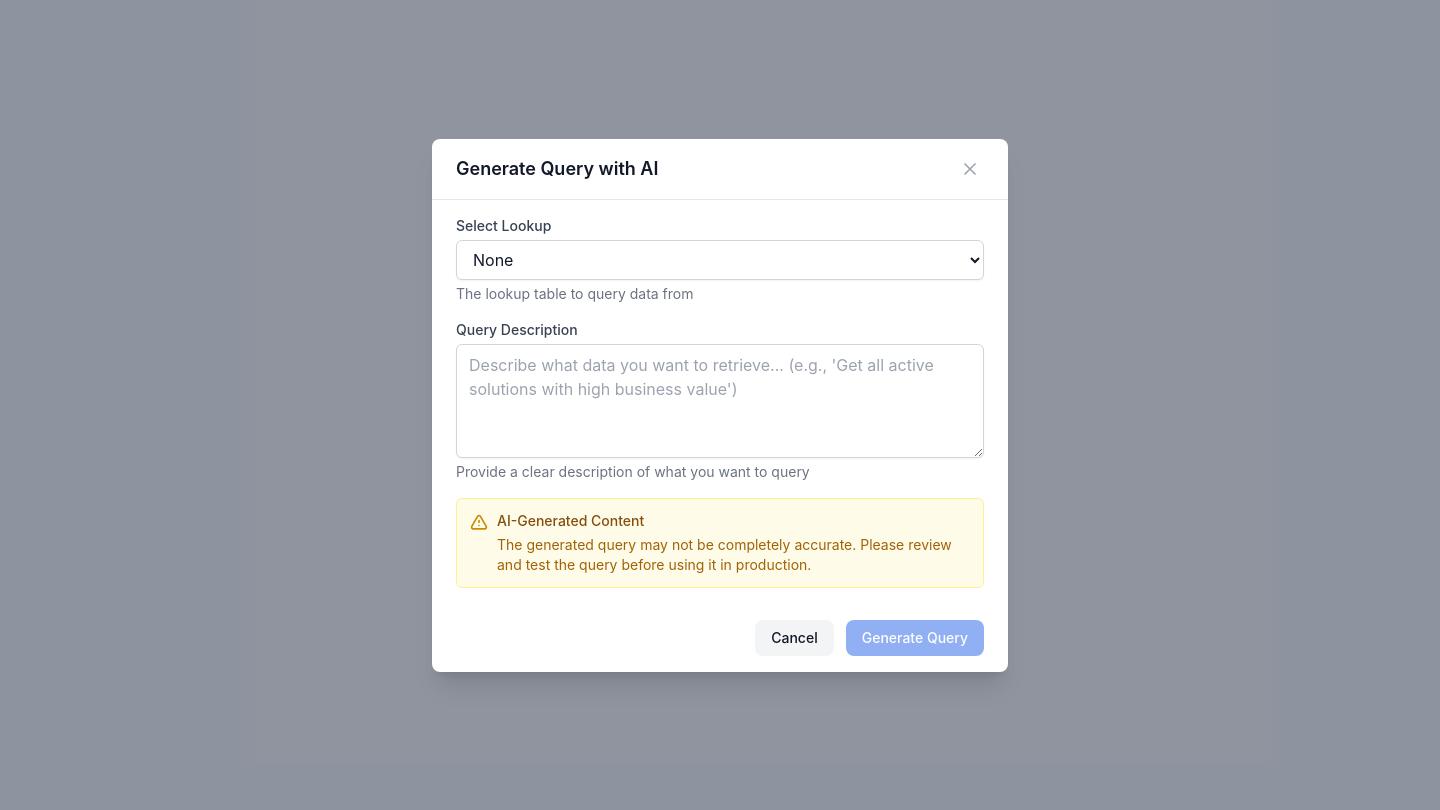
GenerateQueryModal › Button States › enables generate button with valid inputs
This screenshot has width=1440, height=810.
Select "techCompEOL" in the dropdown labelled "Select Lookup". click: (720, 260)
box: [456, 240, 984, 280]
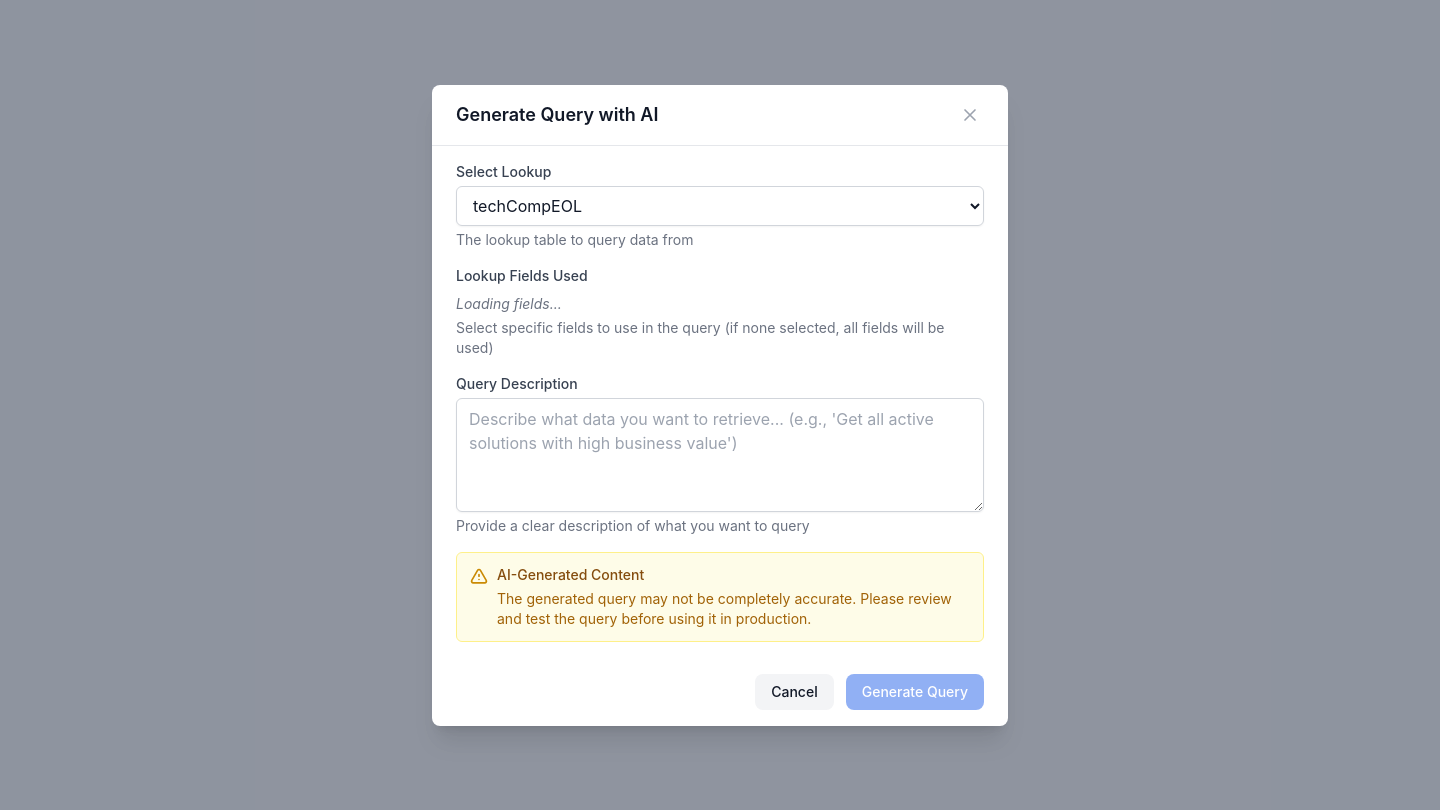
Replace the text in the text box labelled "Query Description" with "Test". click: (720, 454)
box: [456, 398, 984, 512]
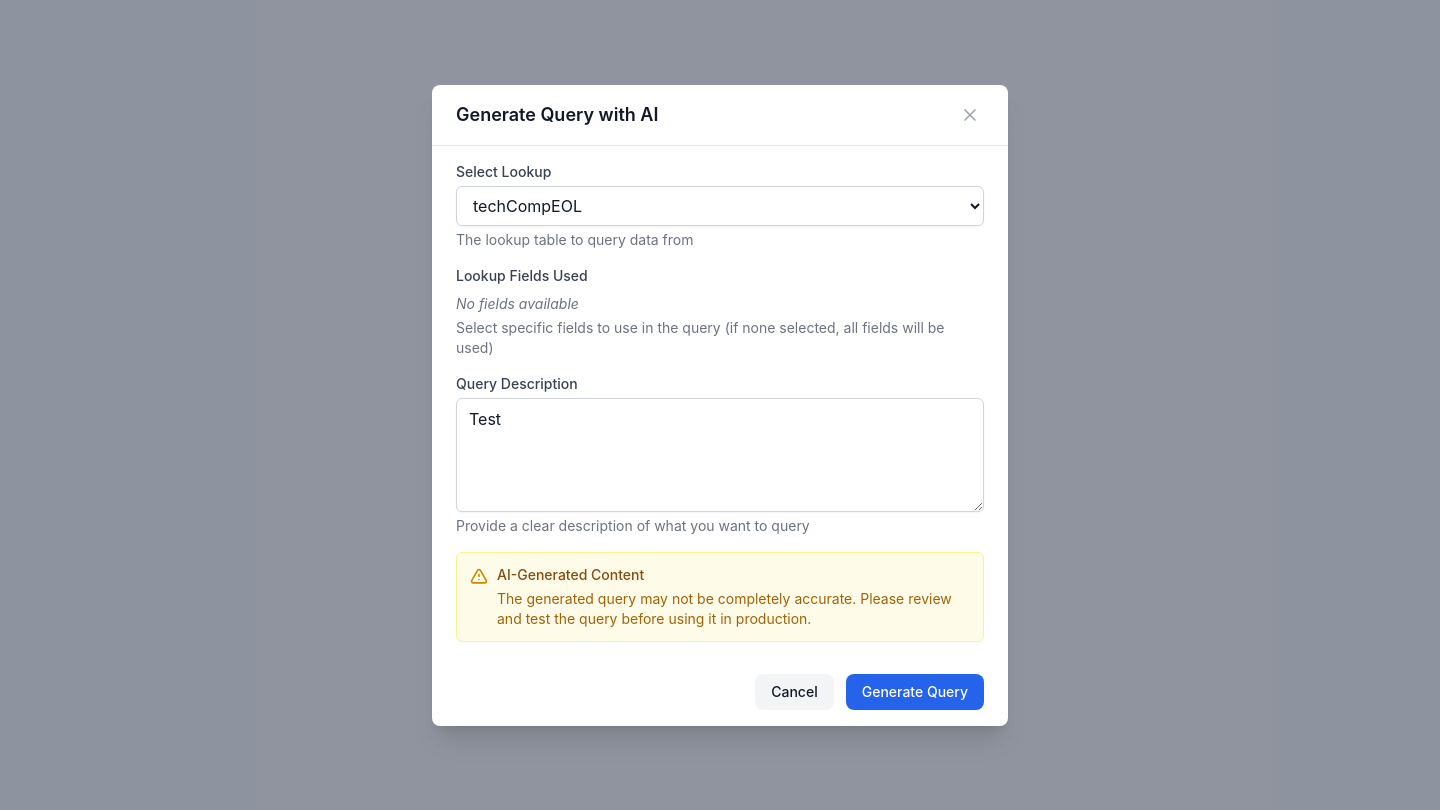
Expected: the button "Generate Query" is enabled, [846, 674, 984, 710]
